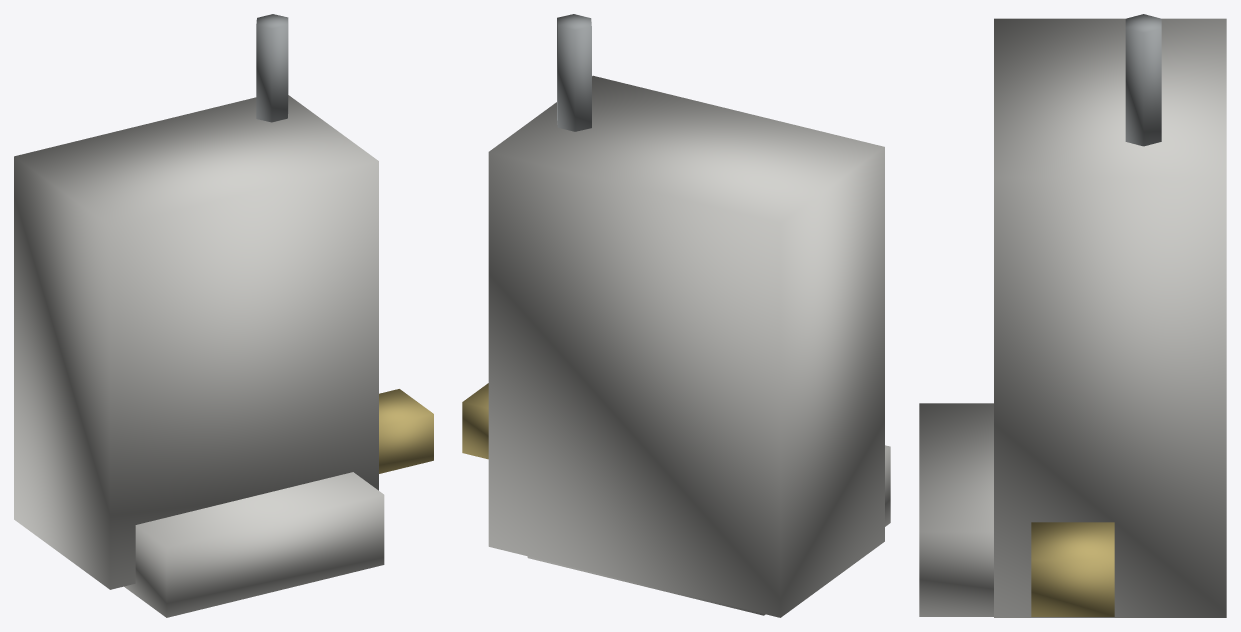
Rendered from urinal_08.glb.
3 views of the same model, side by side, from view 1: azimuth 30°, elevation 25°; view 2: azimuth 150°, elevation 25°; view 3: azimuth 270°, elevation 25° (orthographic). The views are drawn at different scales.
Visible parts, largest first — view 1: world; view 2: world; view 3: world.
Part boxes in pixels (x1=…): world: x1=14, y1=14, x2=433, y2=617; world: x1=462, y1=14, x2=890, y2=617; world: x1=919, y1=14, x2=1226, y2=617.
Size of the model in its own units: 0.5936 by 0.8036 by 0.3848.
